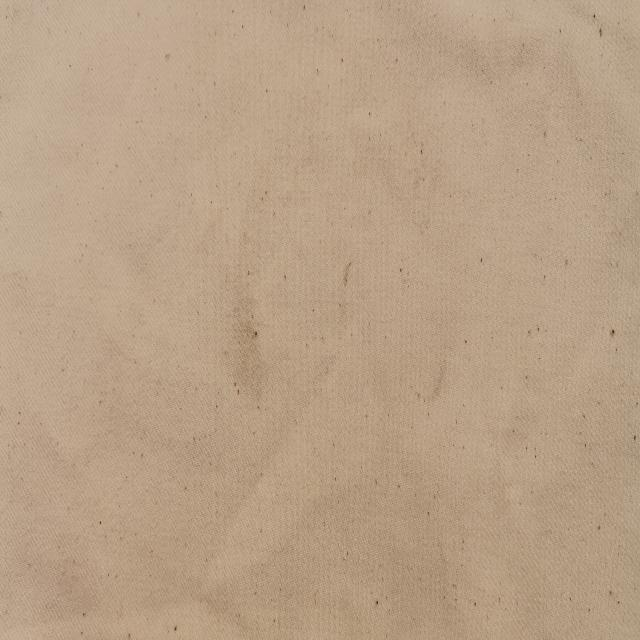taaaches: (230, 296, 268, 404)
